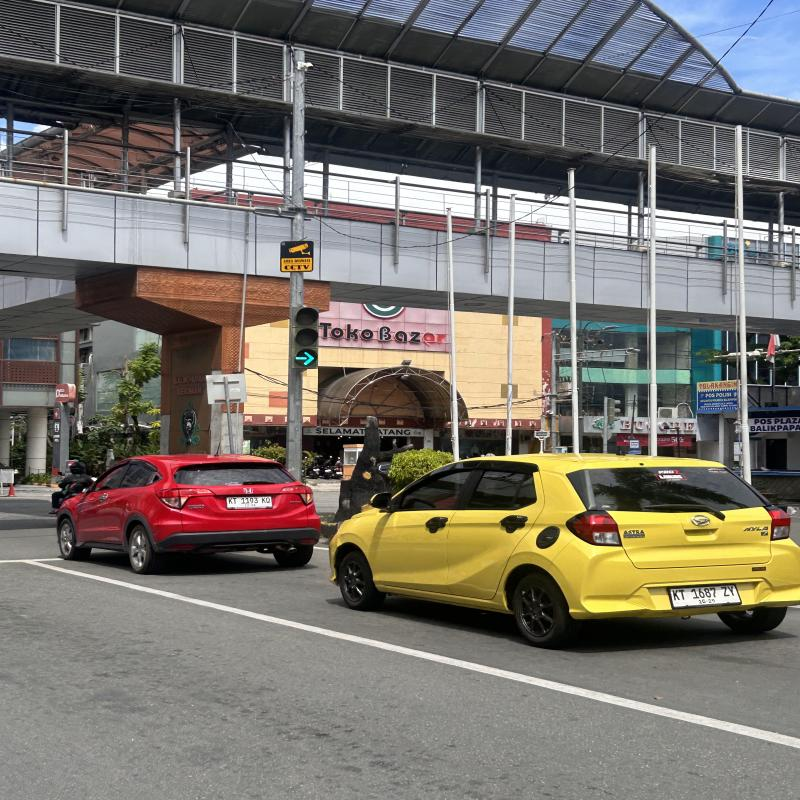license plate on a car: (670, 585, 742, 607), (226, 497, 273, 509)
